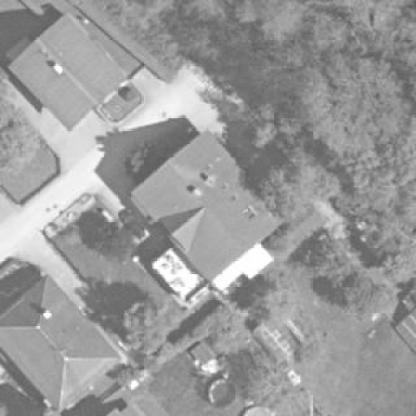solar-pv-panel: (394, 308, 416, 354)
